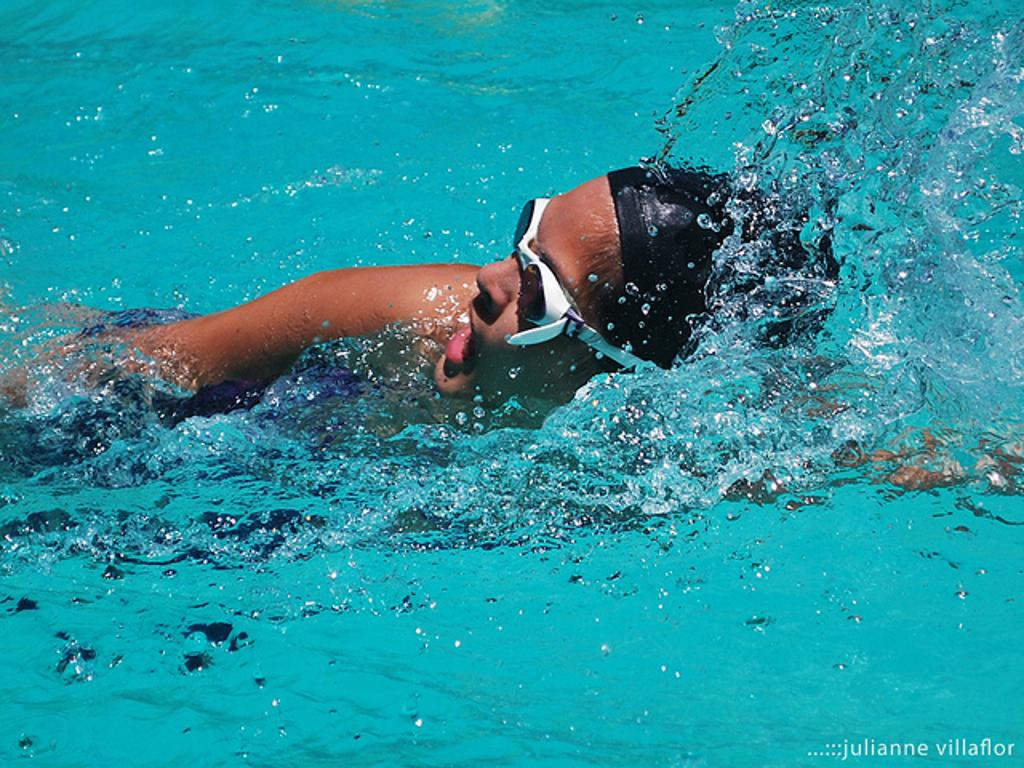face: (430, 180, 604, 412)
